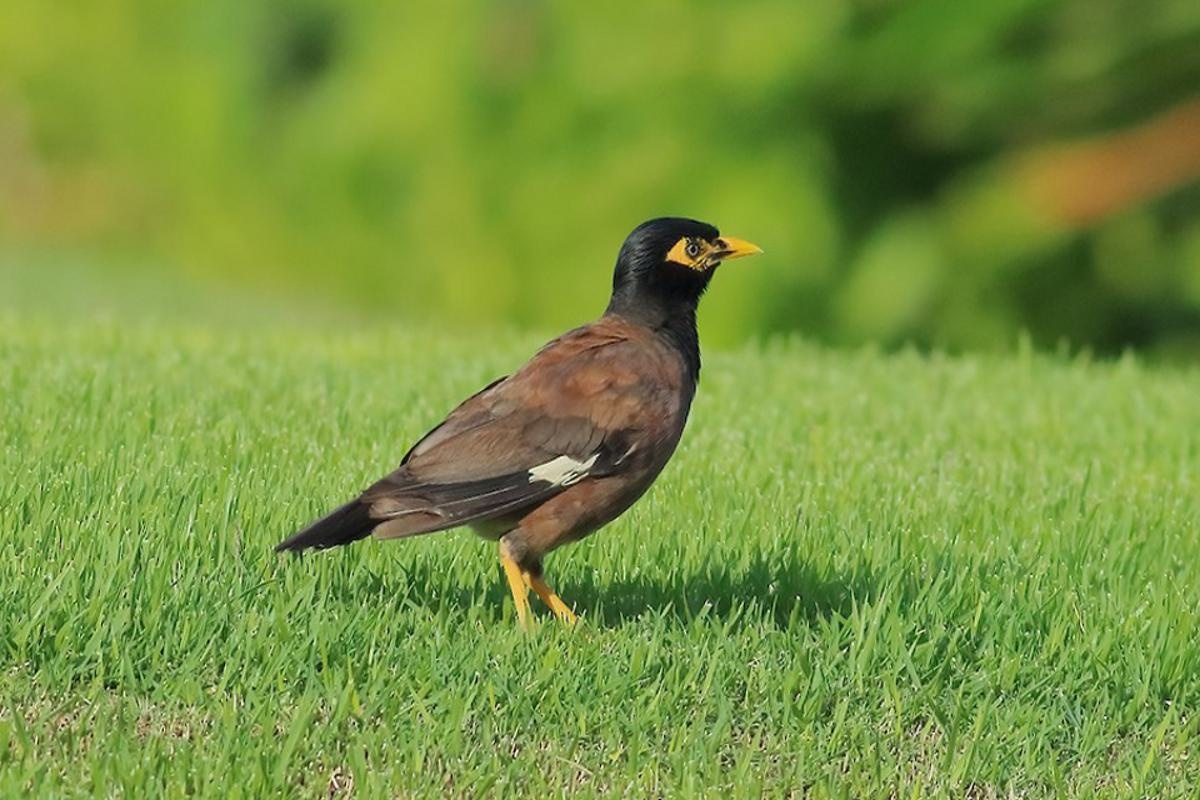myna: (315, 161, 794, 651)
